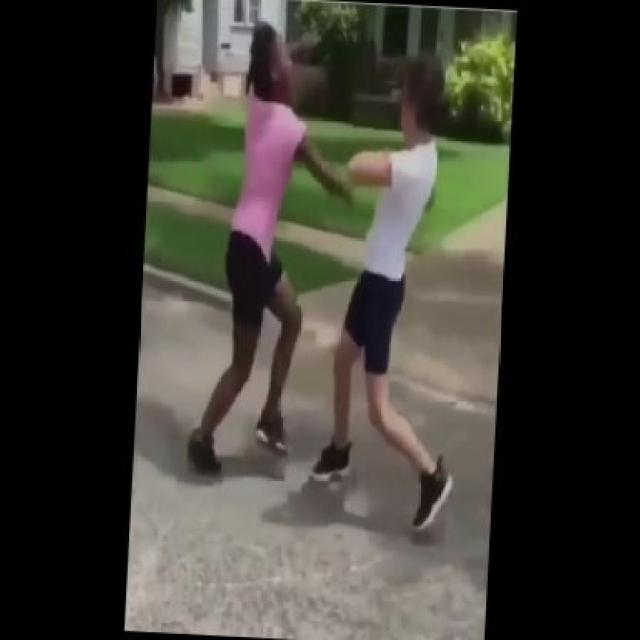fight: (168, 5, 488, 552)
